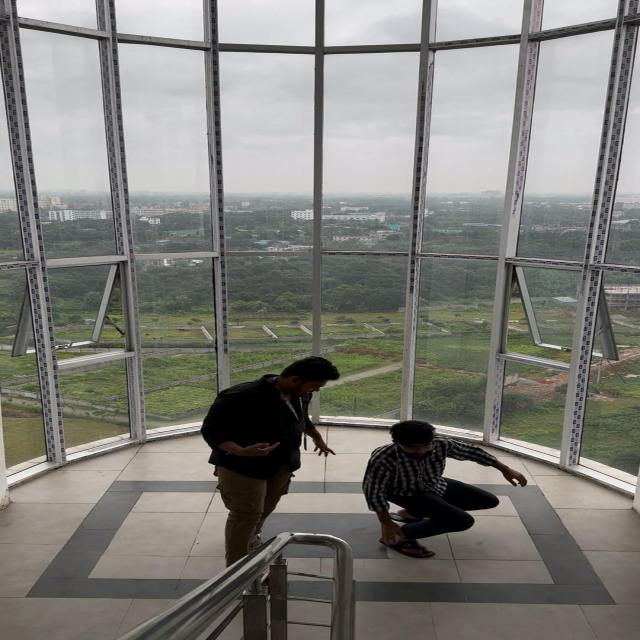fight: (145, 334, 565, 587)
